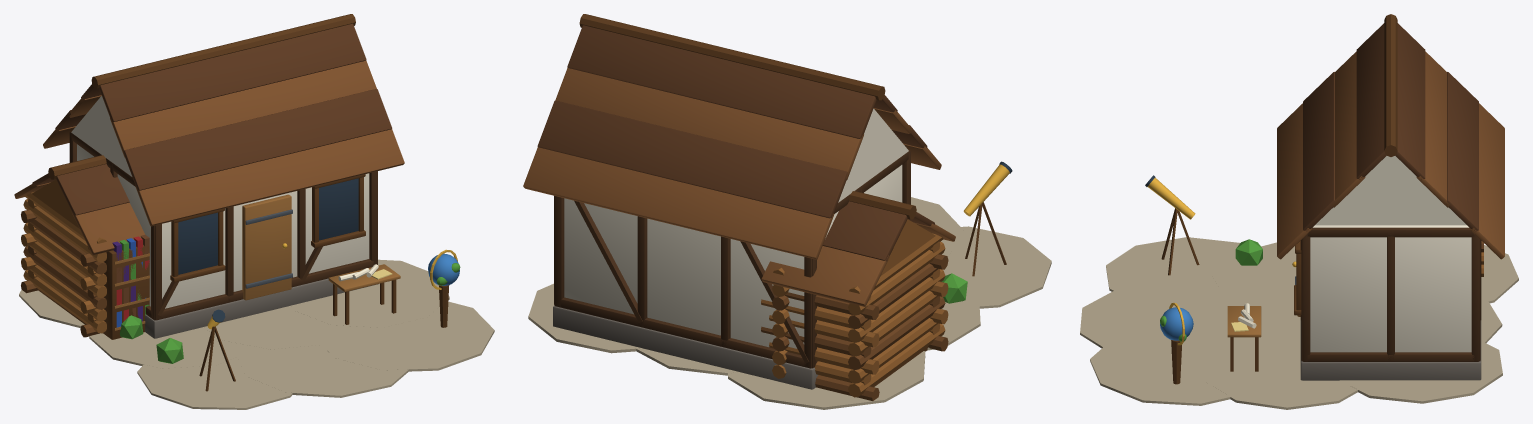
The model's file is akademia_poz07.glb.
The picture shows the model from 3 angles, left to right: view 1: azimuth 30°, elevation 25°; view 2: azimuth 150°, elevation 25°; view 3: azimuth 270°, elevation 25°; orthographic projection. The views are drawn at different scales.
Visible parts, largest first — view 1: akademia_poz07; view 2: akademia_poz07; view 3: akademia_poz07.
Part boxes in pixels (bbox=[...]): akademia_poz07: bbox=[14, 14, 494, 409]; akademia_poz07: bbox=[523, 14, 1051, 409]; akademia_poz07: bbox=[1080, 14, 1518, 409].
Size of the model in its own units: 7.26 by 4.93 by 7.78.
